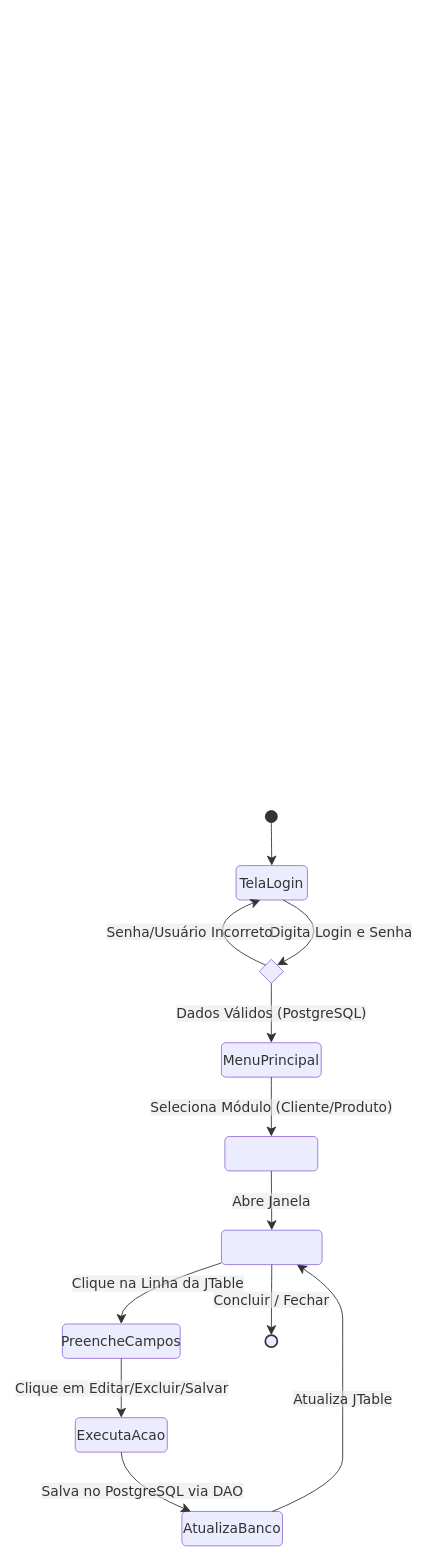
Image size: 427x1561. Some labels were removed from this diagram. Each missing label, with the centre of its shape:
"CarregaJTable" belongs at (271,1247).
"TelaCadastro" belongs at (271,1153).
